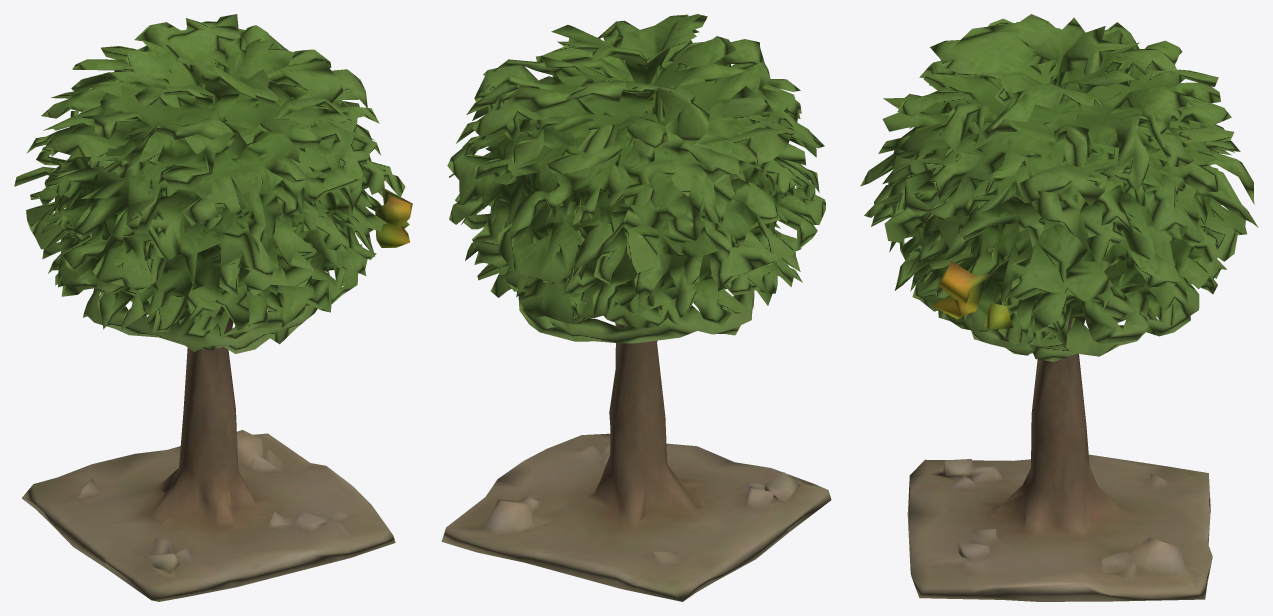
The model's file is tree_mango.glb.
3 views of the same model, side by side, from view 1: azimuth 30°, elevation 25°; view 2: azimuth 150°, elevation 25°; view 3: azimuth 270°, elevation 25° (orthographic). The views are drawn at different scales.
Visible parts, largest first — view 1: tripo_node_559e7b36-40ed-4e0c-ba08-94474926f239; view 2: tripo_node_559e7b36-40ed-4e0c-ba08-94474926f239; view 3: tripo_node_559e7b36-40ed-4e0c-ba08-94474926f239.
Part boxes in pixels (x1,y1,x2,y2): tripo_node_559e7b36-40ed-4e0c-ba08-94474926f239: [14, 14, 412, 601]; tripo_node_559e7b36-40ed-4e0c-ba08-94474926f239: [441, 14, 831, 601]; tripo_node_559e7b36-40ed-4e0c-ba08-94474926f239: [860, 14, 1258, 601].
Size of the model in its own units: 0.7143 by 1 by 0.7209.
Materials: 1 (1 with a texture image).
